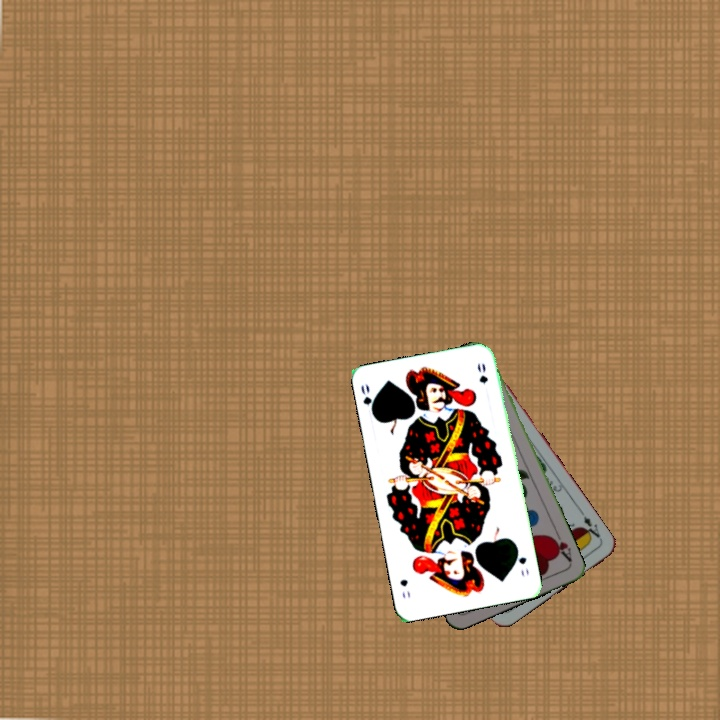EA: (577, 507, 602, 543)
GO: (357, 380, 378, 420), (512, 543, 531, 580)
HA: (546, 527, 574, 565)
